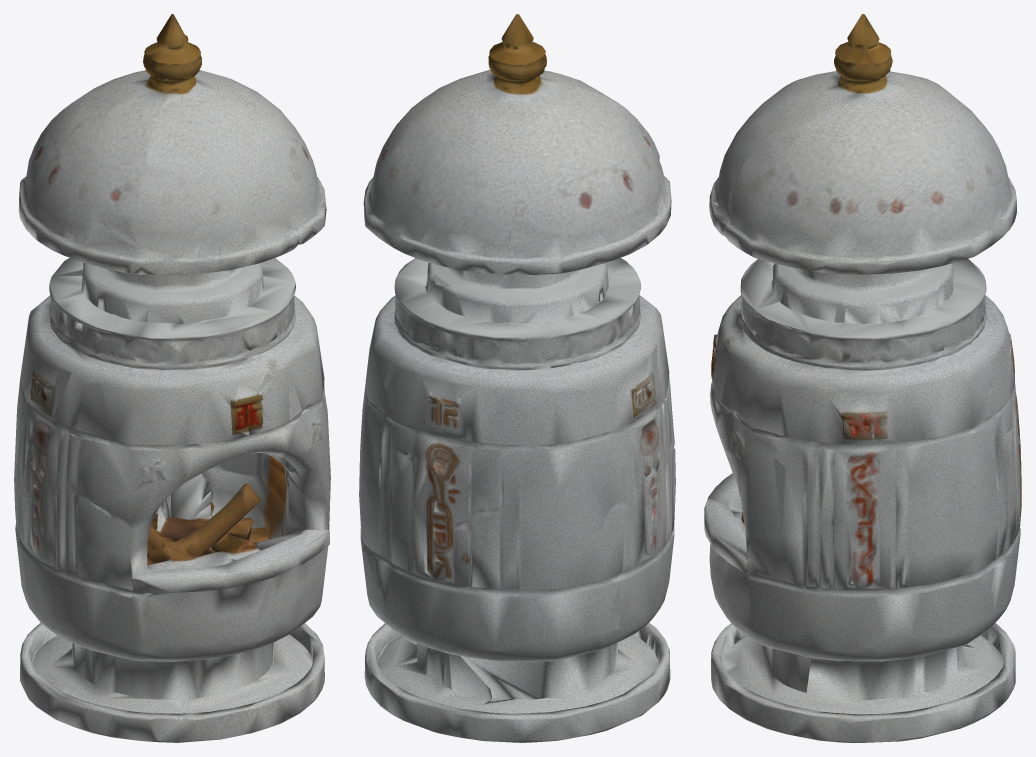
File: incense_burner.glb
The picture shows the model from 3 angles, left to right: view 1: azimuth 30°, elevation 25°; view 2: azimuth 150°, elevation 25°; view 3: azimuth 270°, elevation 25°; orthographic projection.
Parts seen in each view (by area): view 1: Mesh_0; view 2: Mesh_0; view 3: Mesh_0.
Boxes of the visible parts, left/top/right/bottom form: Mesh_0: left=14, top=14, right=330, bottom=742; Mesh_0: left=359, top=14, right=675, bottom=742; Mesh_0: left=704, top=14, right=1021, bottom=742.
Bounding box in the file's own units: 1.08 × 2.5 × 1.08.
Materials: 1 (1 with a texture image).
